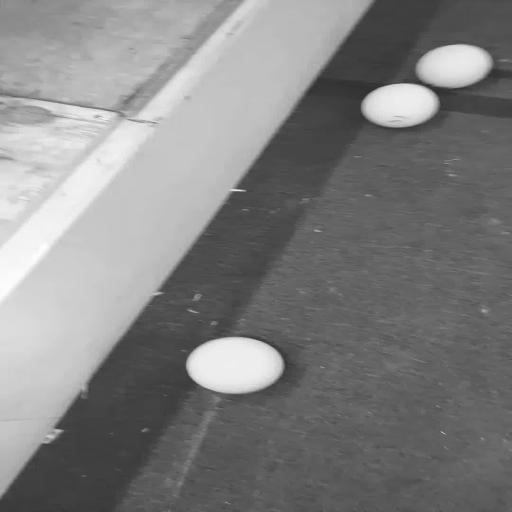fuel: (186, 337, 284, 394), (361, 83, 439, 128), (416, 44, 493, 89)
